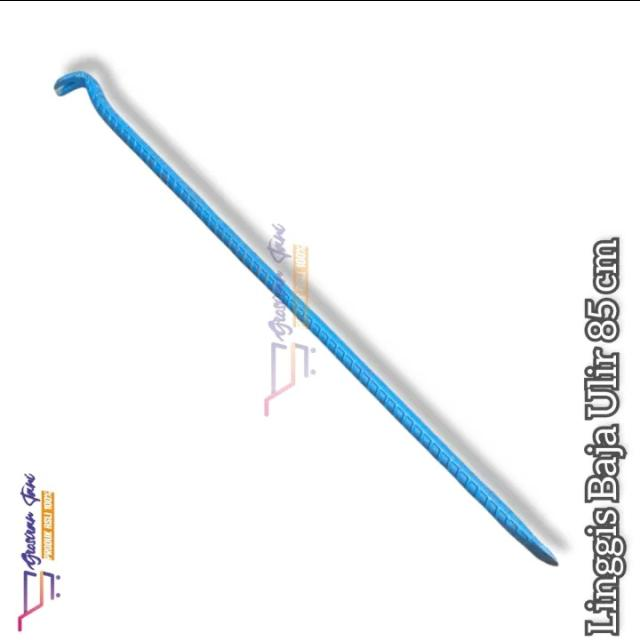Linggis: (52, 68, 557, 563)
